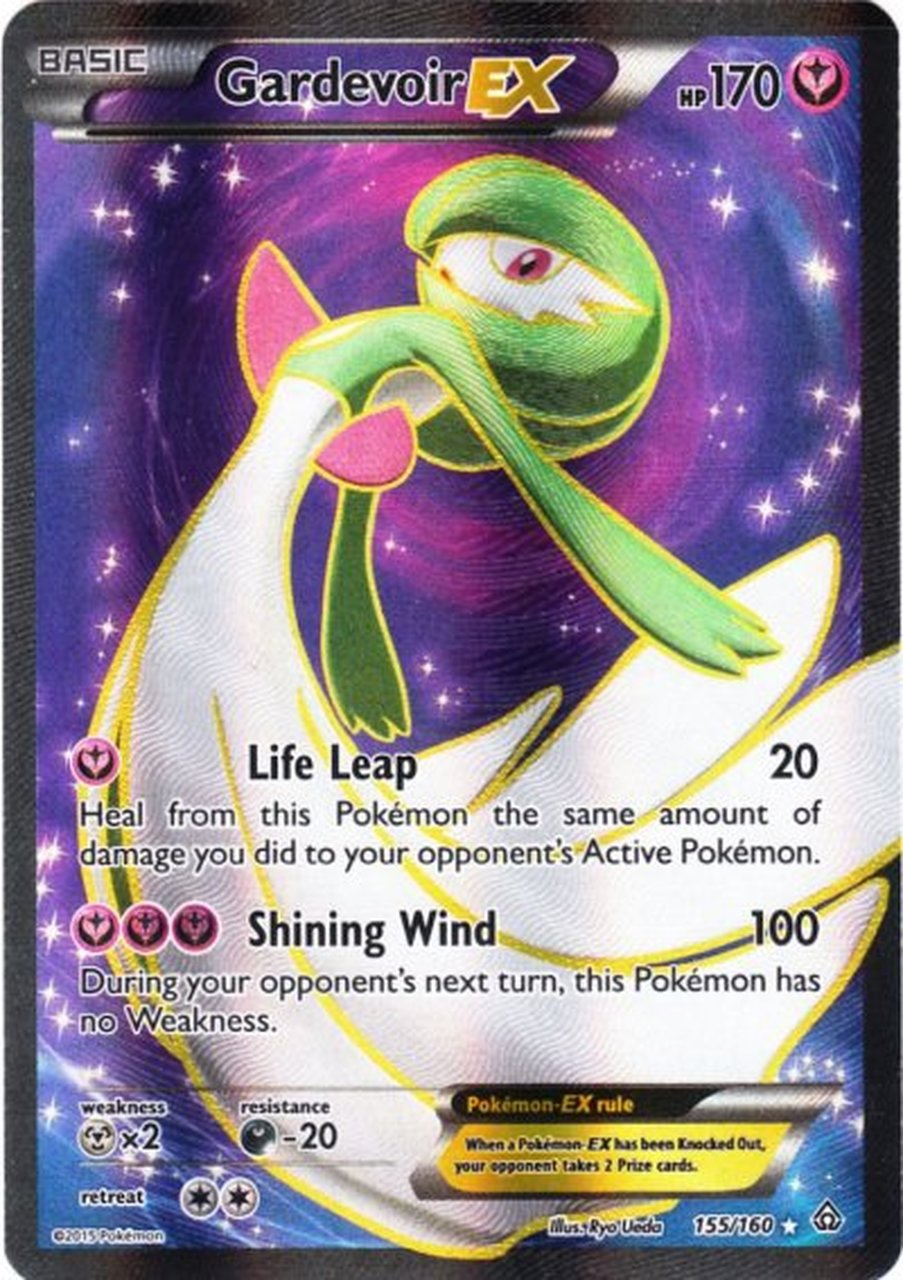gardevoir: (44, 146, 865, 1256)
